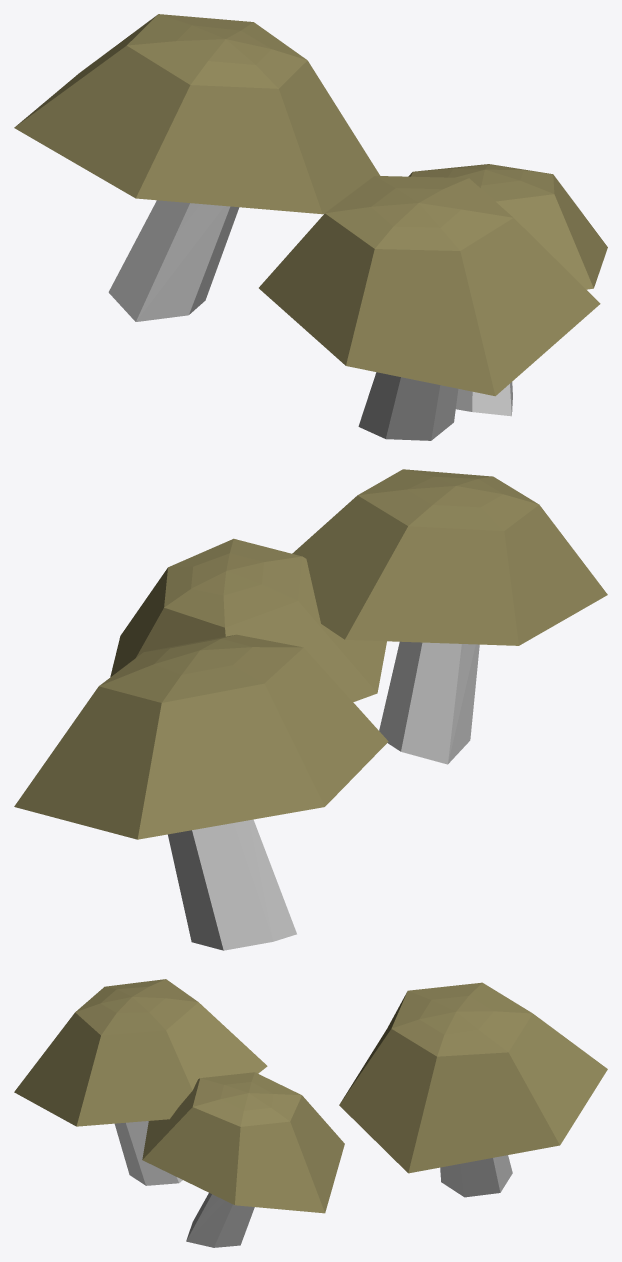
Rendered from Mushroom.fbx.
3 renders of one model, top to bottom at view 1: azimuth 30°, elevation 25°; view 2: azimuth 150°, elevation 25°; view 3: azimuth 270°, elevation 25°, orthographic. The views are drawn at different scales.
Parts seen in each view (by area): view 1: Cylinder013, Cylinder015, Cylinder016, Cylinder017, Cylinder014, Cylinder018; view 2: Cylinder015, Cylinder013, Cylinder017, Cylinder016, Cylinder014; view 3: Cylinder015, Cylinder013, Cylinder017, Cylinder018, Cylinder016, Cylinder014.
Part boxes in pixels (x1,y1,x2,y2): Cylinder013: [259, 176, 600, 396]; Cylinder015: [14, 14, 380, 214]; Cylinder016: [108, 200, 239, 321]; Cylinder017: [408, 164, 607, 289]; Cylinder014: [358, 372, 458, 440]; Cylinder018: [456, 382, 512, 416]; Cylinder015: [14, 634, 388, 839]; Cylinder013: [292, 469, 607, 645]; Cylinder017: [110, 538, 386, 701]; Cylinder016: [168, 819, 296, 950]; Cylinder014: [379, 641, 479, 764]; Cylinder015: [339, 982, 607, 1173]; Cylinder013: [14, 979, 267, 1126]; Cylinder017: [142, 1072, 344, 1213]; Cylinder018: [186, 1193, 254, 1247]; Cylinder016: [440, 1155, 512, 1197]; Cylinder014: [114, 1121, 182, 1185].
Bounding box in the file's own units: 25.07 × 16.58 × 44.49.
